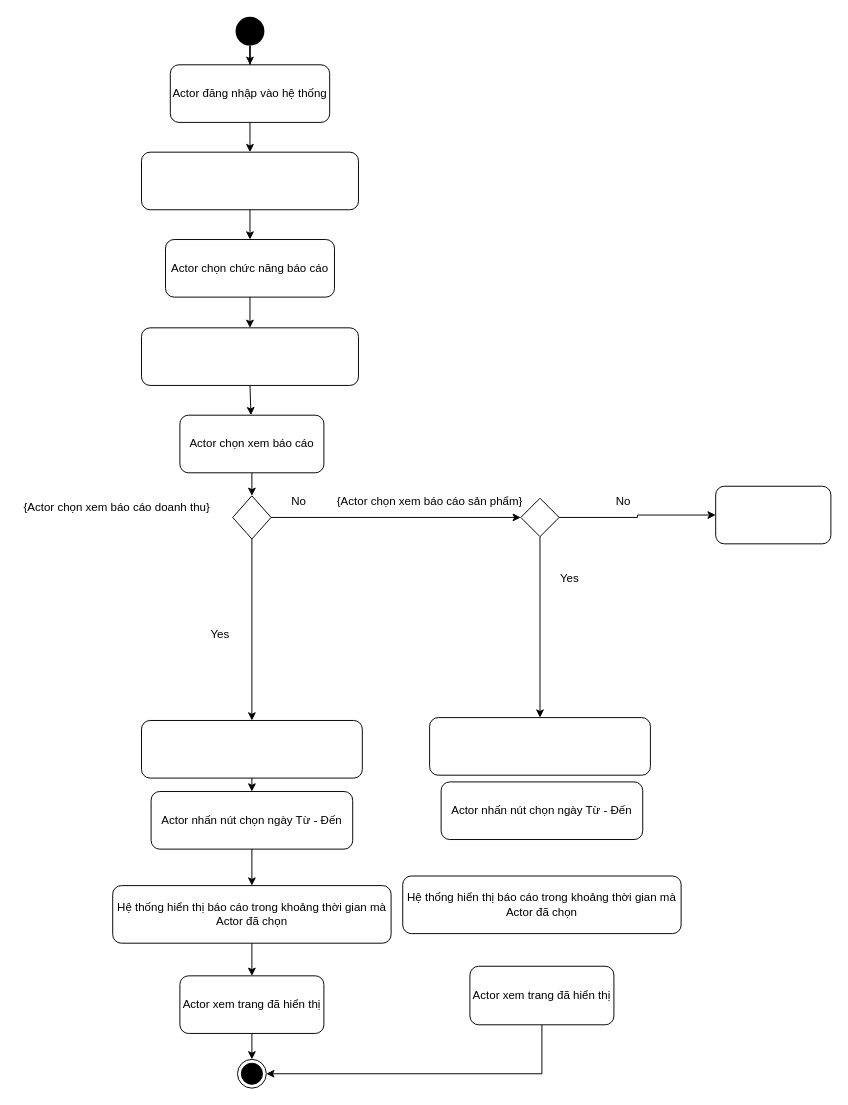
Image size: 848x1105. Some labels were removed from this diagram. Here are the shapes that lost their labels. From the top down, the centre of each, then its label:
At (x=249, y=180): "Hệ thống hiển thị trang chủ và các chức năng để actor chọn".
At (x=249, y=356): "Hệ thống hiển thị menu item các báo cáo cho actor lựa chọn".
At (x=773, y=514): "Chọn xem bao cáo khách hàng".
At (x=251, y=749): "Hệ thống hiển thị trang thông tin báo cáo doanh thu".
At (x=539, y=746): "Hệ thống hiển thị trang san pham".
